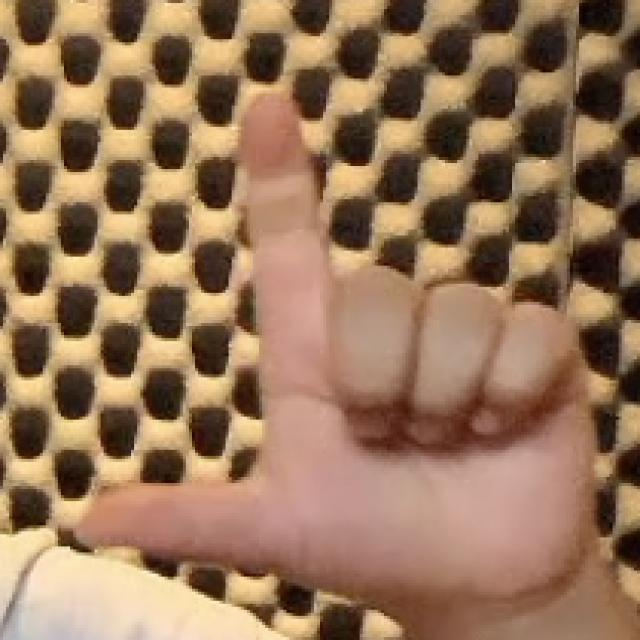LL: (59, 72, 608, 605)
